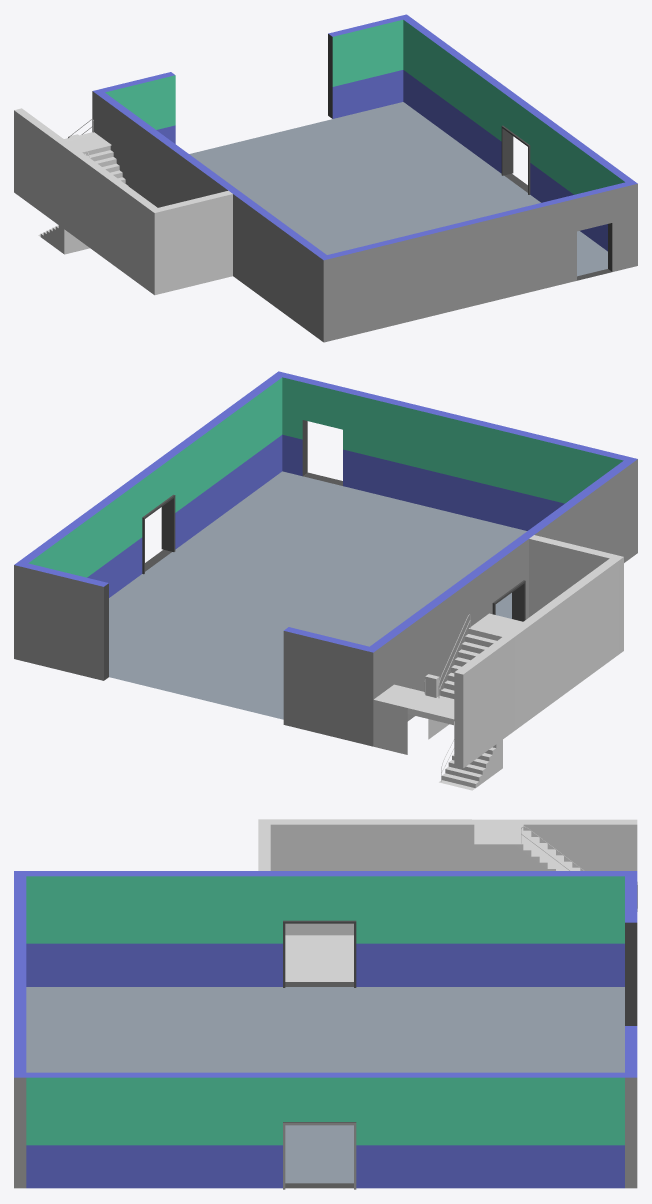
File: prueba.glb
3 views of the same model, one above another, from view 1: azimuth 30°, elevation 25°; view 2: azimuth 150°, elevation 25°; view 3: azimuth 270°, elevation 25° (orthographic). The views are drawn at different scales.
Parts seen in each view (by area): view 1: Lobby1-col, Escaleras1-col, Escalones-convcol.001; view 2: Lobby1-col, Escaleras1-col, Escalones-convcol.002, Escalones-convcol.003; view 3: Lobby1-col, Escaleras1-col, Escalones-convcol.002.
Boxes of the visible parts, x1=… form: Lobby1-col: x1=92, y1=14, x2=637, y2=342; Escaleras1-col: x1=14, y1=108, x2=232, y2=295; Escalones-convcol.001: x1=82, y1=145, x2=127, y2=185; Lobby1-col: x1=14, y1=371, x2=637, y2=746; Escaleras1-col: x1=373, y1=535, x2=623, y2=787; Escalones-convcol.002: x1=437, y1=626, x2=505, y2=702; Escalones-convcol.003: x1=439, y1=744, x2=496, y2=790; Lobby1-col: x1=14, y1=871, x2=637, y2=1189; Escaleras1-col: x1=258, y1=819, x2=637, y2=981; Escalones-convcol.002: x1=514, y1=824, x2=580, y2=870.
Size of the model in its own units: 25.09 by 7.77 by 25.53.
